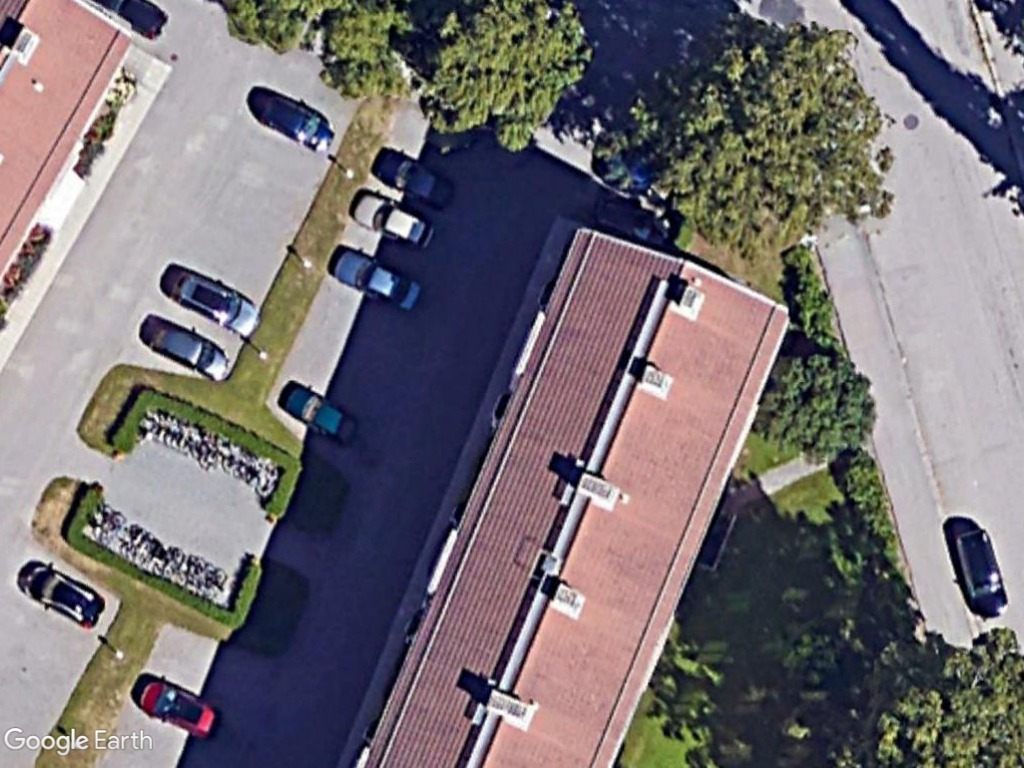car: (160, 262, 265, 341), (242, 84, 339, 159), (946, 521, 1013, 626), (326, 246, 425, 315), (129, 676, 226, 745), (139, 315, 233, 385), (20, 558, 110, 631), (372, 137, 456, 213), (345, 189, 438, 255), (281, 381, 364, 451)
